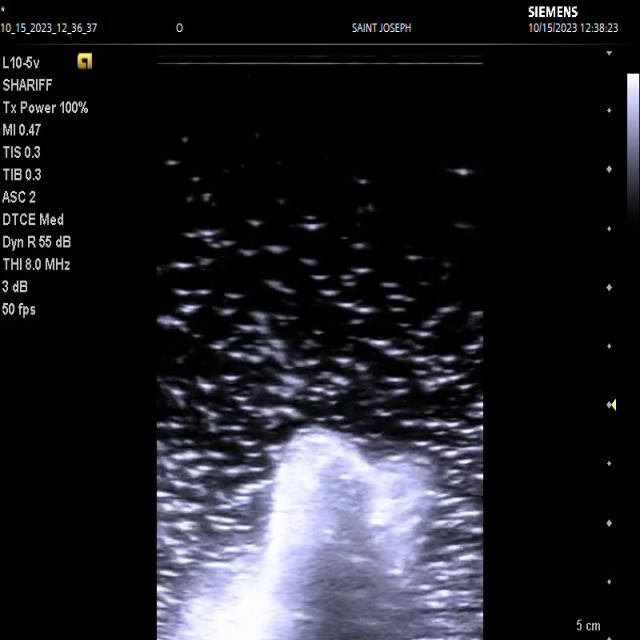tissue: (162, 429, 439, 640)
